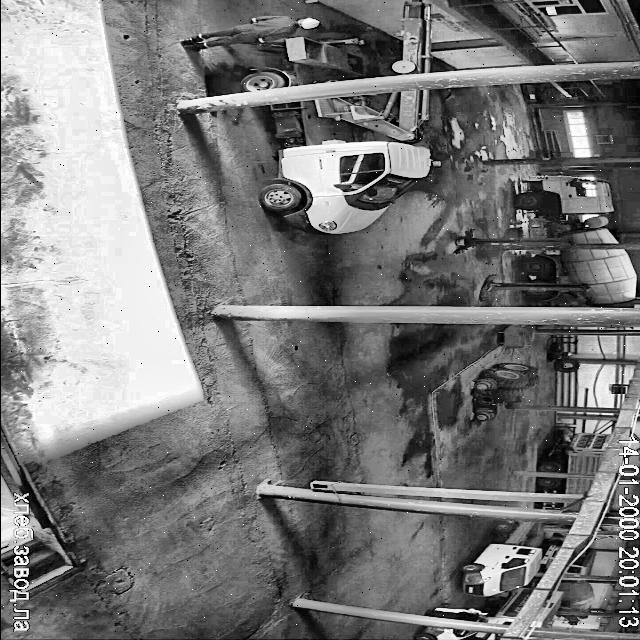car lift: (316, 90, 428, 140), (286, 37, 363, 74), (479, 276, 588, 300), (455, 232, 572, 252)
mechanic: (180, 16, 317, 51), (426, 610, 482, 620)
truck: (260, 90, 439, 233), (516, 176, 616, 244), (243, 36, 364, 91), (526, 248, 636, 304), (461, 521, 541, 595), (538, 433, 612, 474), (393, 0, 428, 74), (485, 588, 532, 624), (556, 580, 594, 624), (534, 592, 561, 626), (414, 625, 475, 640), (537, 477, 592, 493), (566, 549, 595, 575), (427, 607, 484, 620), (541, 535, 563, 566), (529, 292, 558, 300), (476, 633, 499, 640), (543, 500, 563, 508), (564, 504, 579, 510)
